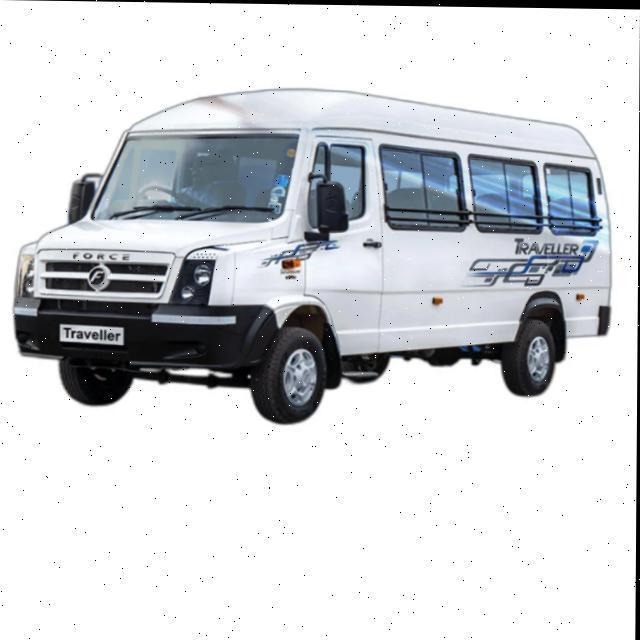Ambulance: (9, 80, 617, 430), (172, 146, 248, 213)
